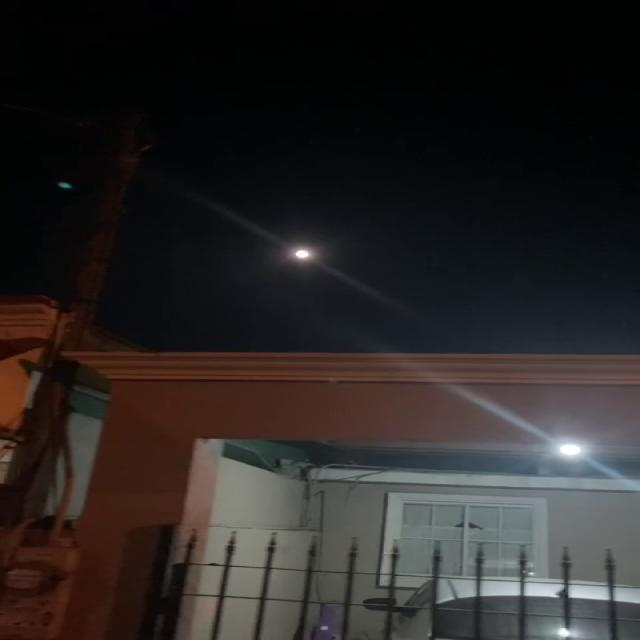moon: (287, 244, 319, 266)
